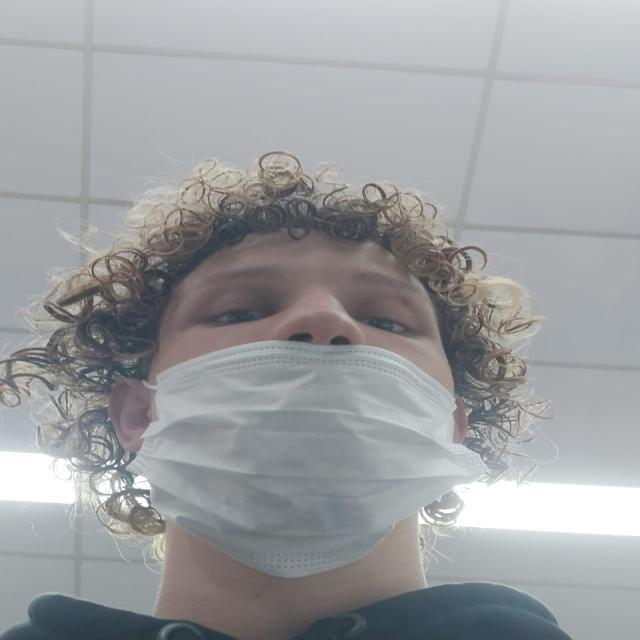hairnet: (171, 237, 472, 545)
